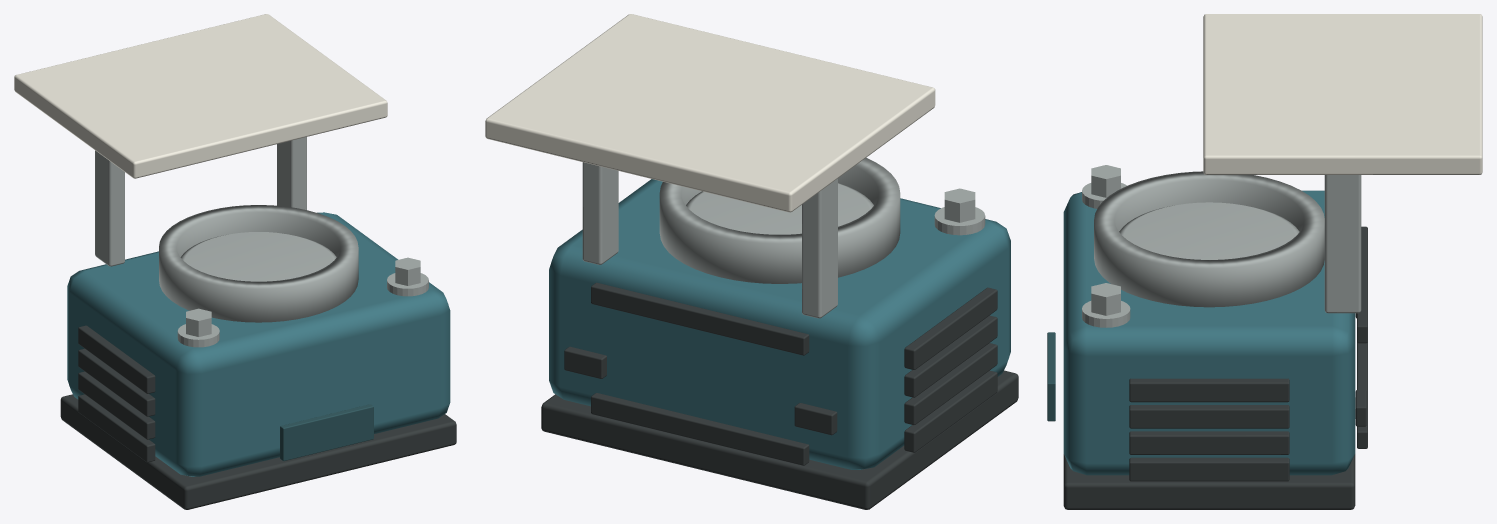
File: optician-and-optical-lens-workshop-optician-and-optica-31fb8c19__31701.glb
3 renders of one model, left to right at view 1: azimuth 30°, elevation 25°; view 2: azimuth 150°, elevation 25°; view 3: azimuth 270°, elevation 25°, orthographic. The views are drawn at different scales.
Parts seen in each view (by area): view 1: optician-and-optical-lens-workshop-ultrasonic-frame-cleaner_ (×5); view 2: optician-and-optical-lens-workshop-ultrasonic-frame-cleaner_ (×4); view 3: optician-and-optical-lens-workshop-ultrasonic-frame-cleaner_ (×5).
Boxes of the visible parts, box(x1,y1,x2,y2) form: optician-and-optical-lens-workshop-ultrasonic-frame-cleaner_ (×5): box(14, 14, 456, 509); optician-and-optical-lens-workshop-ultrasonic-frame-cleaner_ (×4): box(485, 14, 1018, 509); optician-and-optical-lens-workshop-ultrasonic-frame-cleaner_ (×5): box(1047, 14, 1482, 509).
Size of the model in its own units: 0.322 by 0.318 by 0.3585.
